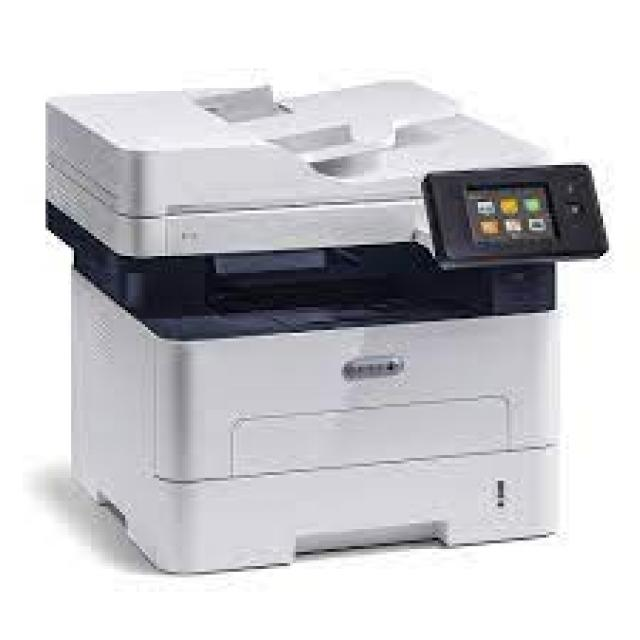printer: (30, 32, 627, 589)
